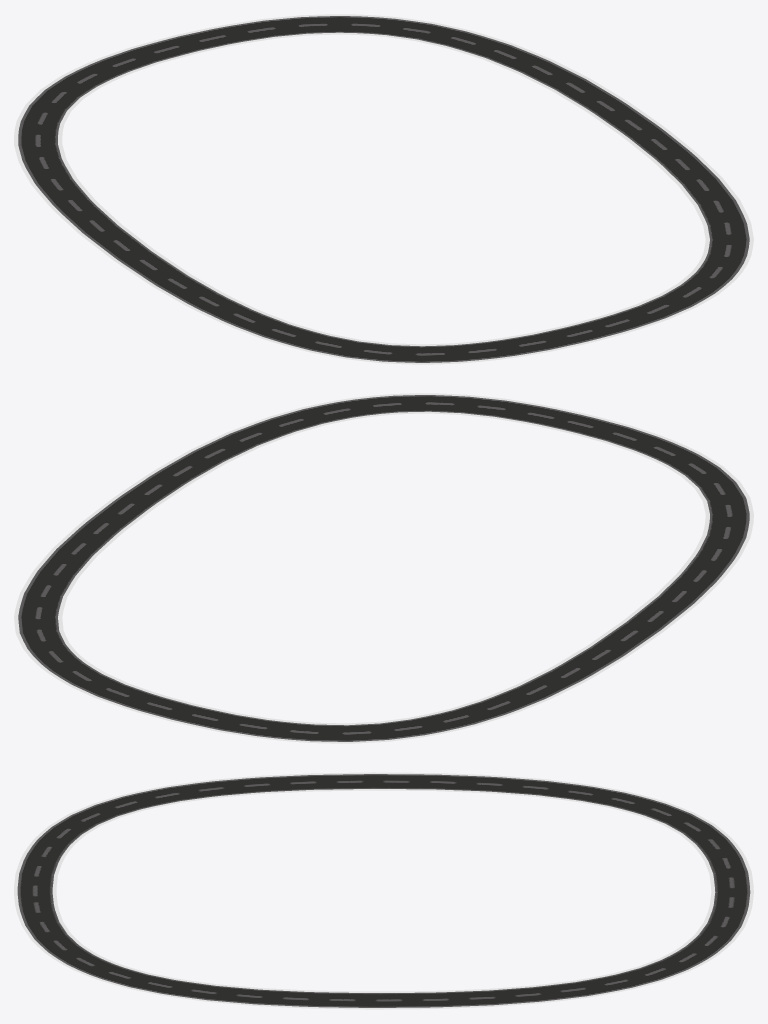
The model's file is Track.glb.
The picture shows the model from 3 angles, top to bottom: view 1: azimuth 30°, elevation 25°; view 2: azimuth 150°, elevation 25°; view 3: azimuth 270°, elevation 25°; orthographic projection. The views are drawn at different scales.
Visible parts, largest first — view 1: Track; view 2: Track; view 3: Track.
Part boxes in pixels (x1,y1,x2,y2): Track: (14,14,753,364); Track: (14,393,753,743); Track: (14,772,753,1009).
Size of the model in its own units: 14.42 by 4.93e-07 by 19.03.
2 materials, 1 textured.
